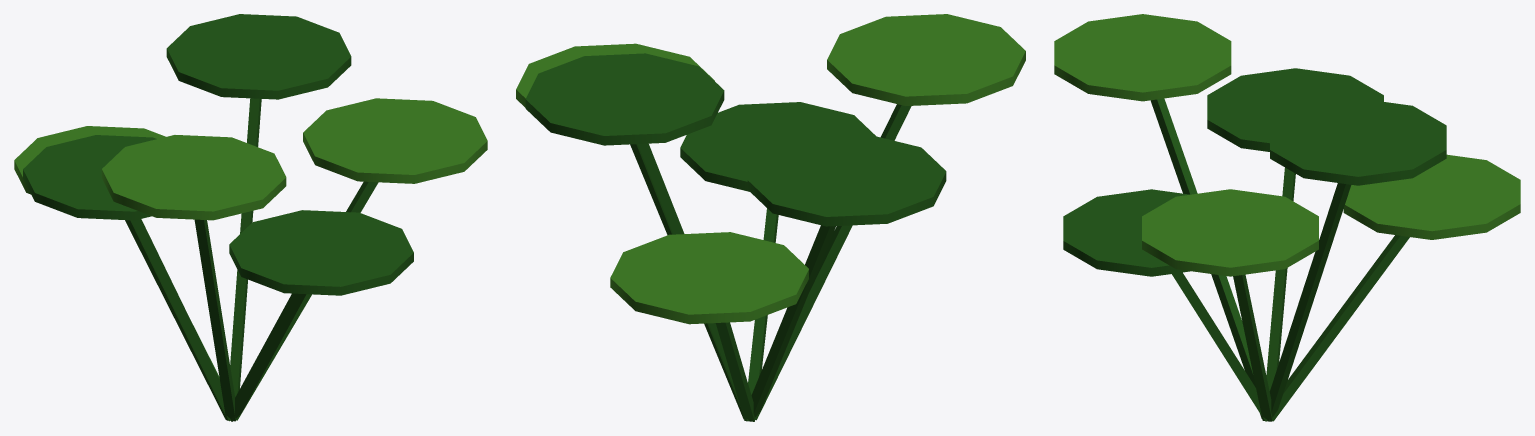
Rendered from jg_monstera.glb.
3 renders of one model, left to right at view 1: azimuth 30°, elevation 25°; view 2: azimuth 150°, elevation 25°; view 3: azimuth 270°, elevation 25°, orthographic. The views are drawn at different scales.
Visible parts, largest first — view 1: jg_monstera; view 2: jg_monstera; view 3: jg_monstera.
Part boxes in pixels (left/top/right/bottom): jg_monstera: left=14, top=14, right=487, bottom=421; jg_monstera: left=516, top=14, right=1025, bottom=421; jg_monstera: left=1054, top=14, right=1520, bottom=421.
Size of the model in its own units: 1.93 by 1.43 by 1.9.
